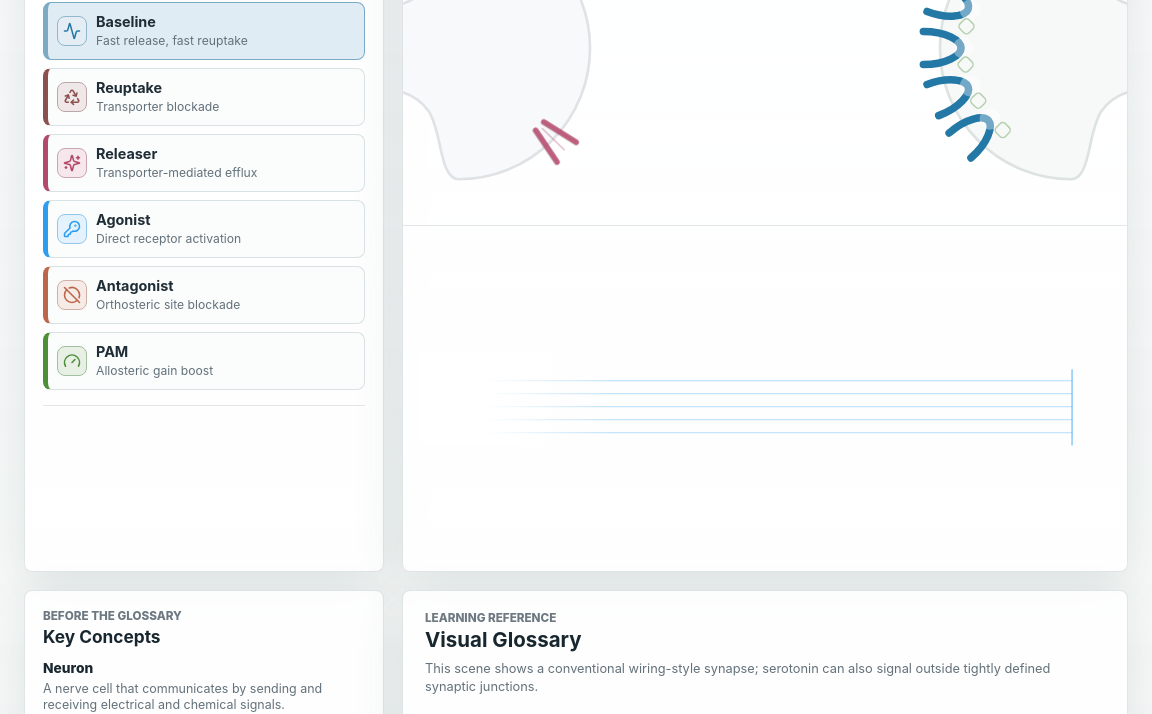
App › updates control values from intervention sliders
This screenshot has width=1152, height=714.
(page scrolled)
Expected: the field labelled "intervention strength" is not shown
Expected: the field labelled "drug binding time" is not shown
Click the radio button labelled "PAM Allosteric gain boost": (204, 361) [43,332,365,390]
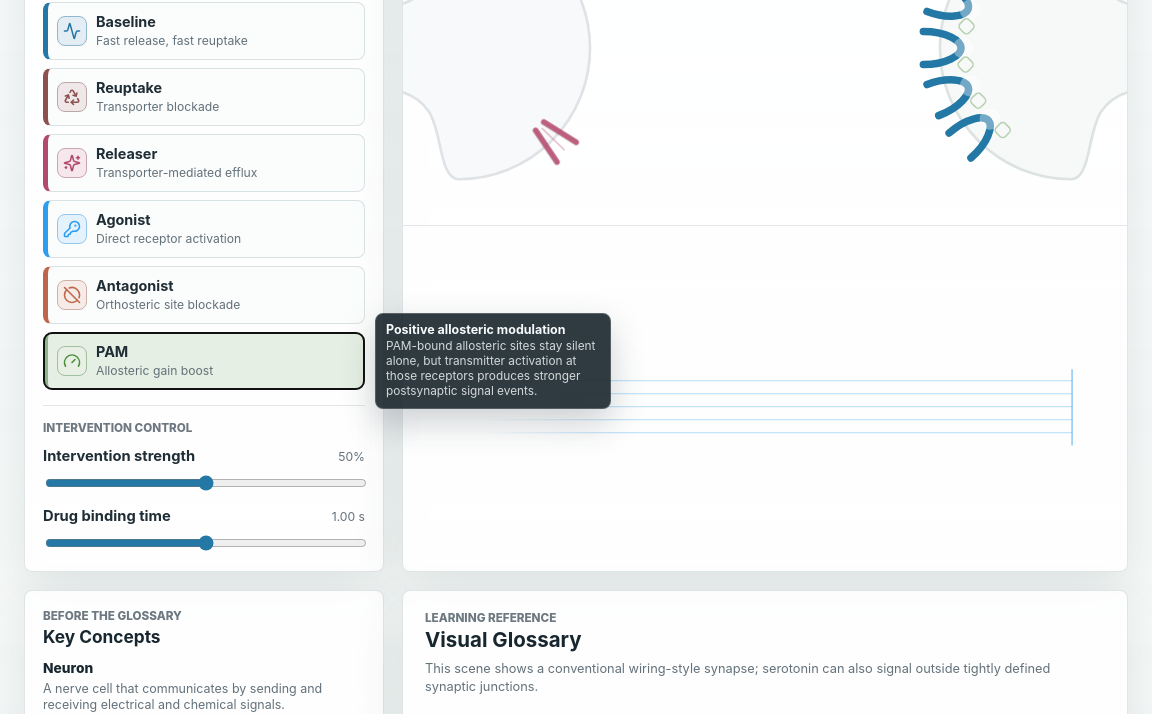
Expected: the slider labelled "Drug binding time 1.00 s" holds "1", [45,535,367,551]
Set the slider labelled "Intervention strength 50%" to "0.9": (328, 483) [45,475,367,491]
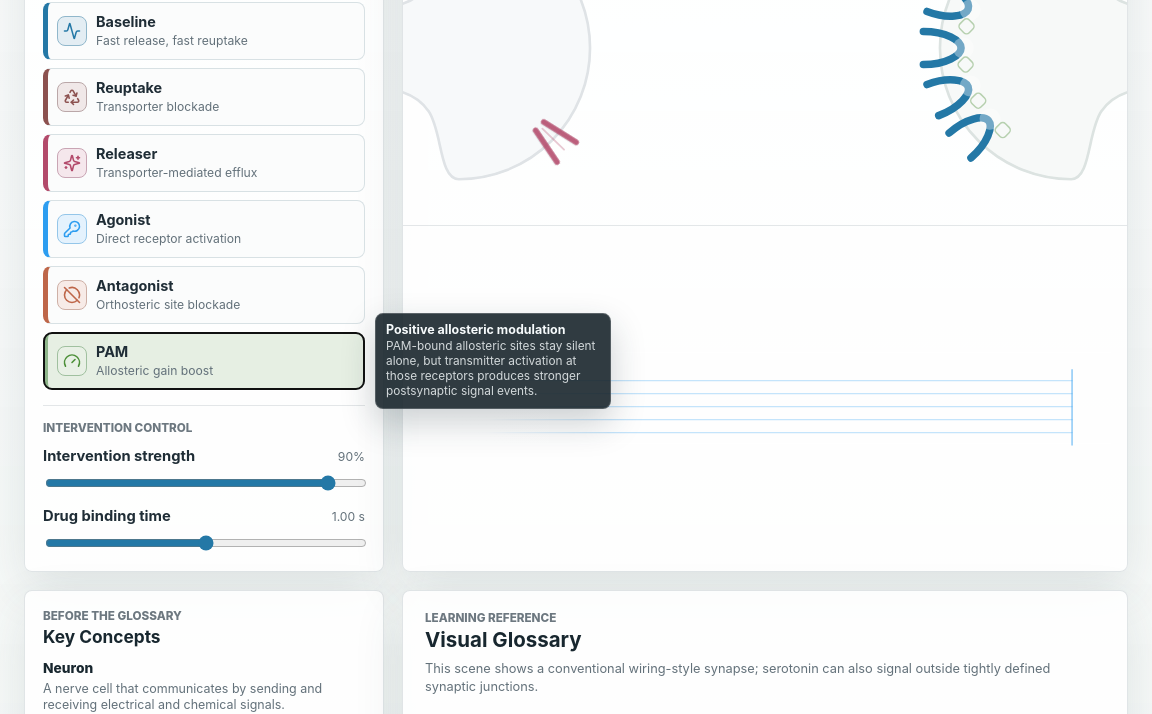
Set the slider labelled "Drug binding time 1.00 s" to "1.5": (282, 543) [45,535,367,551]
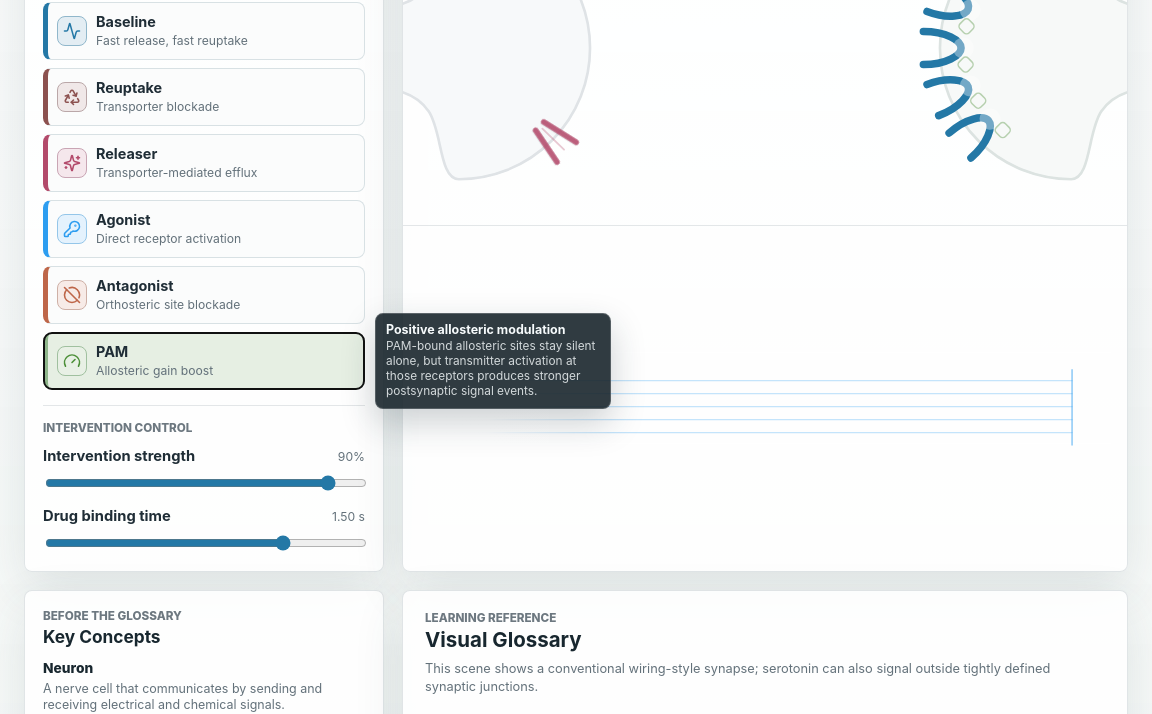
Expected: the text "90%" is shown, [338,449,365,464]
Expected: the text "1.50 s" is shown, [332,509,365,524]
